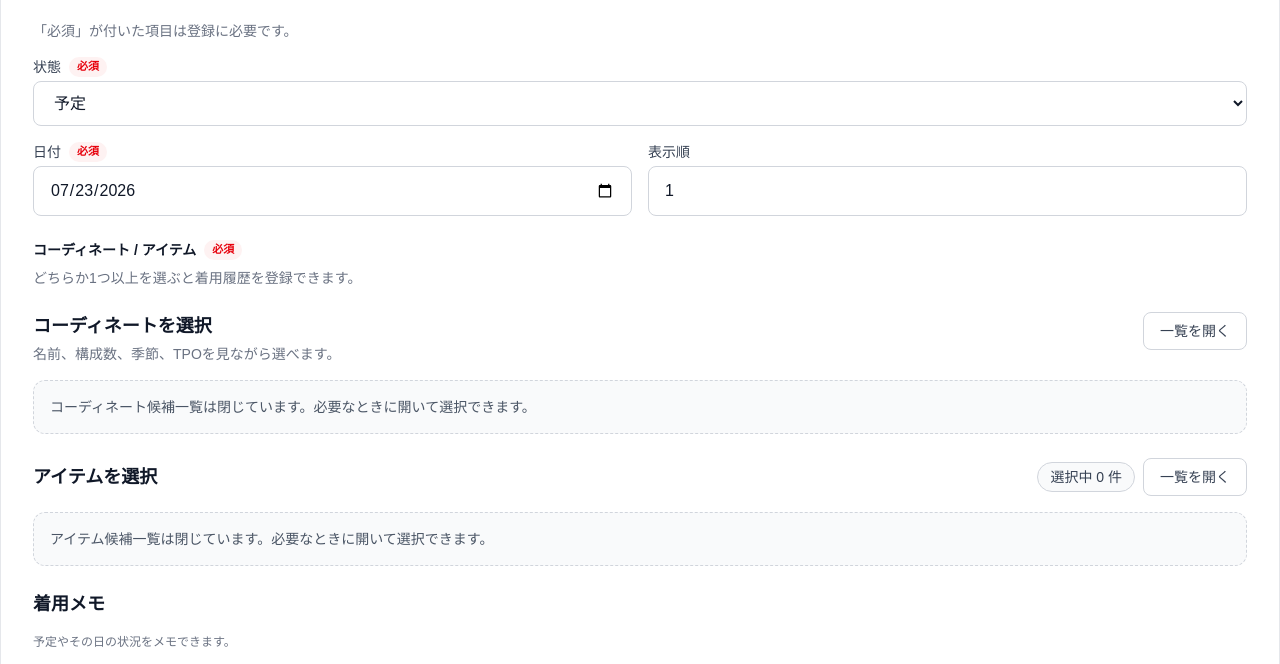
Scenario: WearLogForm › item 1件選択時の関連コーディネート候補取得に失敗した場合はエラーを表示する
Click the button with test id "wear-log-item-list-toggle" at (1195,477), box x1=1143 y1=458 x2=1247 y2=496
(page scrolled)
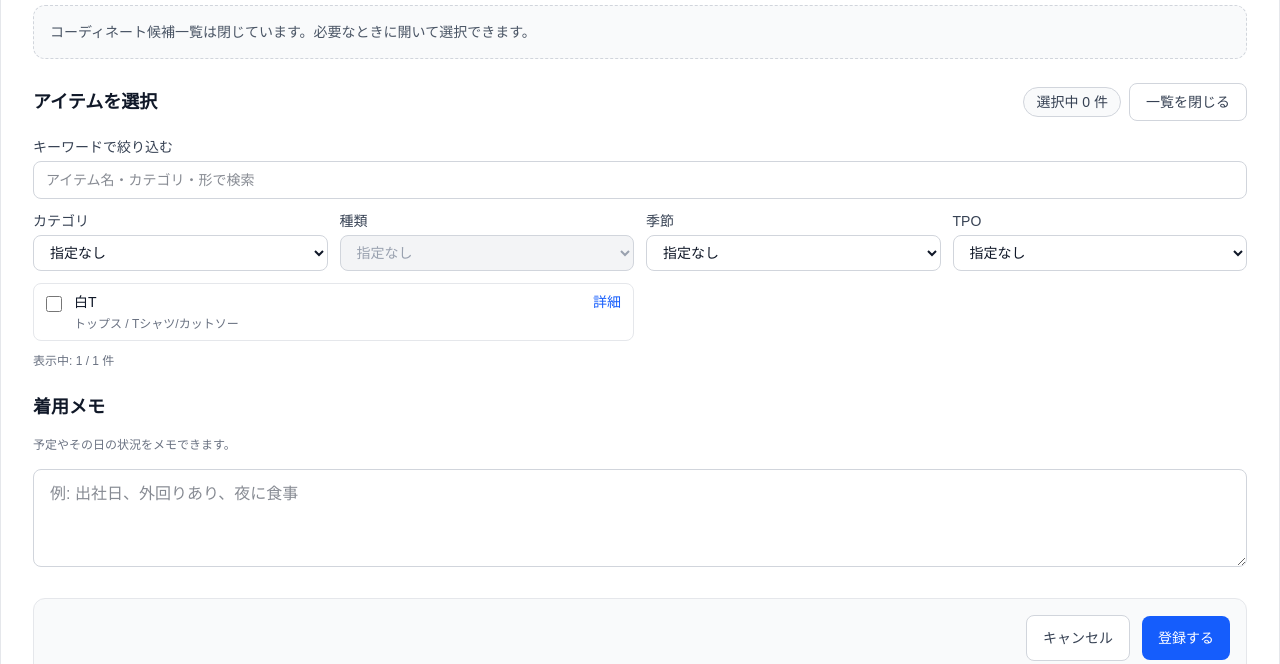
Click the checkbox with id "wear-log-item-1" at (54,304), box x1=46 y1=296 x2=62 y2=312
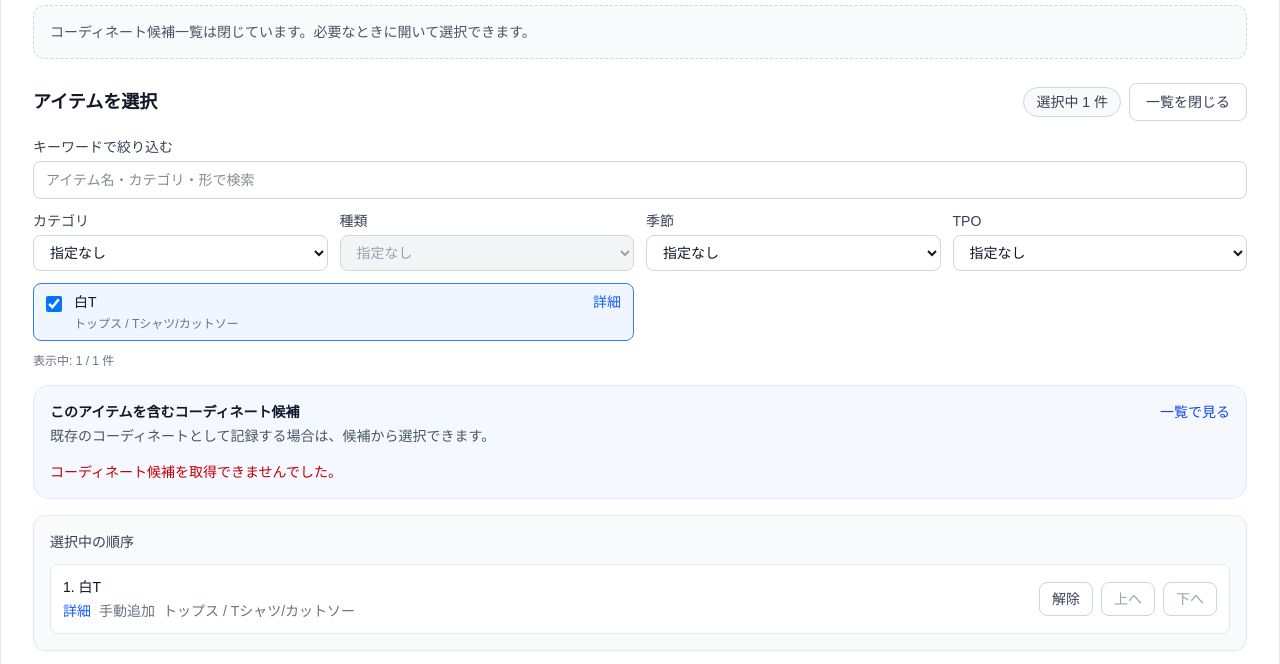
expect the text "コーディネート候補を取得できませんでした。" is shown: met, box x1=50 y1=464 x2=342 y2=480
